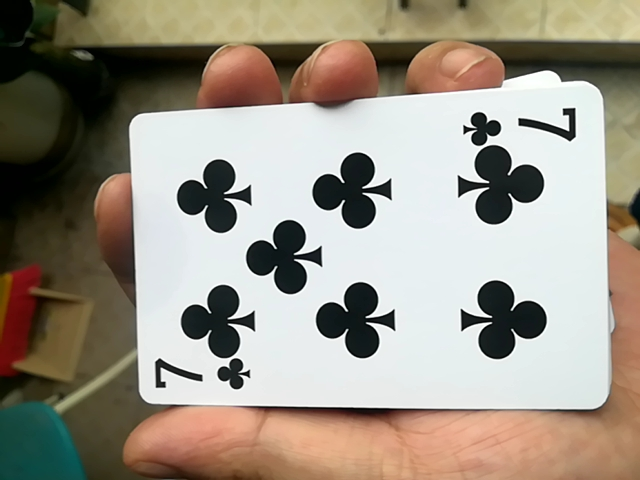mh 7: (113, 97, 607, 423)
